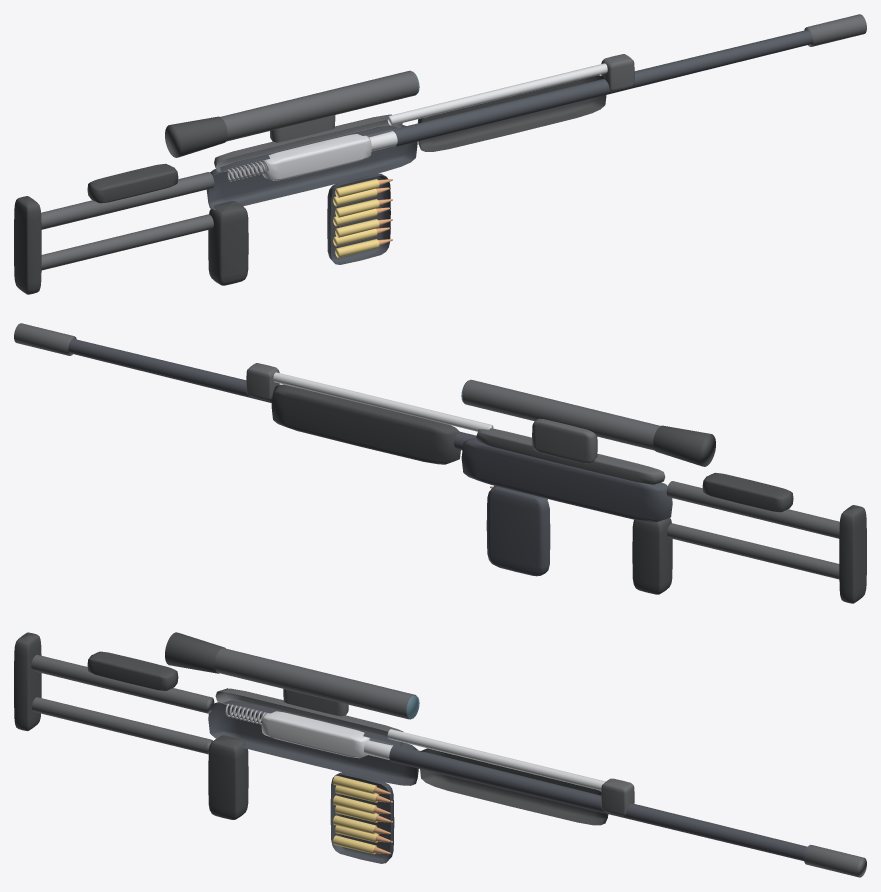
Rendered from svds-cut.glb.
3 views of the same model, one above another, from view 1: azimuth 30°, elevation 25°; view 2: azimuth 150°, elevation 25°; view 3: azimuth 330°, elevation 25° (orthographic).
Visible parts, largest first — view 1: barrel, receiver, pso1_tube, handguard, pistol_grip, bolt_carrier, stock_bot_tube, stock_top_tube, stock_buttplate, gas_piston_short, mag_body, cheek_pad (+5 smaller); view 2: receiver, handguard, mag_body, pso1_tube, barrel, pistol_grip, stock_bot_tube, dust_cover, stock_top_tube, stock_buttplate, gas_piston_short, cheek_pad (+4 smaller); view 3: barrel, pso1_tube, receiver, handguard, pistol_grip, bolt_carrier, stock_bot_tube, stock_top_tube, gas_piston_short, stock_buttplate, cheek_pad, mag_body (+5 smaller).
Part boxes in pixels (left/top/right/bottom): barrel: left=393, top=29, right=812, bottom=146; receiver: left=206, top=125, right=417, bottom=210; pso1_tube: left=220, top=70, right=418, bottom=141; handguard: left=418, top=75, right=606, bottom=151; pistol_grip: left=208, top=201, right=248, bottom=285; bolt_carrier: left=261, top=134, right=371, bottom=180; stock_bot_tube: left=41, top=214, right=213, bottom=270; stock_top_tube: left=41, top=172, right=214, bottom=229; stock_buttplate: left=14, top=196, right=41, bottom=294; gas_piston_short: left=387, top=63, right=607, bottom=125; mag_body: left=327, top=173, right=390, bottom=264; cheek_pad: left=87, top=163, right=178, bottom=203; receiver: left=461, top=437, right=672, bottom=522; handguard: left=271, top=384, right=460, bottom=464; mag_body: left=486, top=485, right=550, bottom=576; pso1_tube: left=462, top=379, right=660, bottom=450; barrel: left=68, top=338, right=476, bottom=450; pistol_grip: left=632, top=518, right=672, bottom=594; stock_bot_tube: left=667, top=523, right=839, bottom=579; dust_cover: left=476, top=428, right=665, bottom=484; stock_top_tube: left=666, top=481, right=839, bottom=538; stock_buttplate: left=839, top=505, right=866, bottom=603; gas_piston_short: left=273, top=372, right=493, bottom=431; cheek_pad: left=702, top=472, right=793, bottom=512; barrel: left=389, top=745, right=807, bottom=860; pso1_tube: left=214, top=648, right=417, bottom=719; receiver: left=208, top=700, right=418, bottom=785; handguard: left=420, top=748, right=608, bottom=825; pistol_grip: left=208, top=735, right=248, bottom=819; bolt_carrier: left=261, top=711, right=369, bottom=758; stock_bot_tube: left=32, top=697, right=212, bottom=754; stock_top_tube: left=31, top=654, right=214, bottom=713; gas_piston_short: left=387, top=729, right=605, bottom=790; stock_buttplate: left=14, top=632, right=41, bottom=731; cheek_pad: left=87, top=651, right=178, bottom=690; mag_body: left=330, top=772, right=394, bottom=863.
Size of the model in its own units: 1.15 by 0.2345 by 0.0448.
